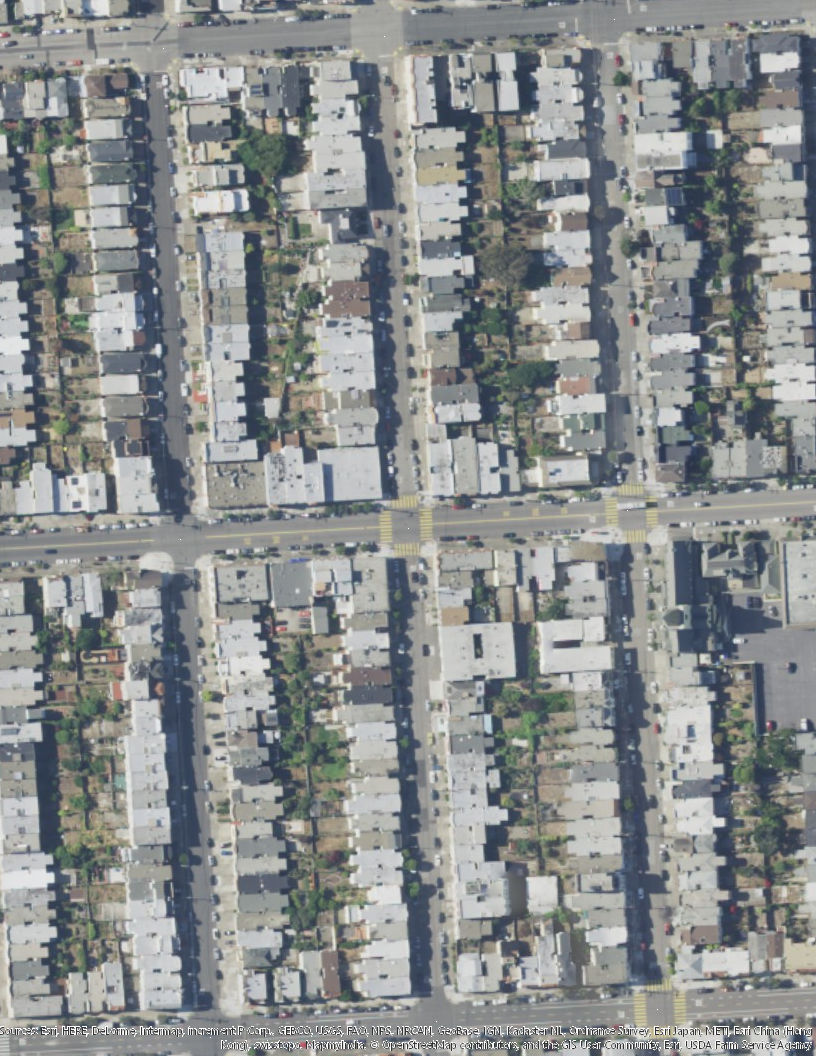zebracross: (377, 509, 395, 543), (640, 978, 678, 994), (631, 994, 650, 1025), (391, 494, 424, 511), (419, 509, 434, 542), (673, 990, 687, 1025), (645, 496, 658, 528), (605, 497, 619, 526), (618, 482, 645, 497), (393, 542, 421, 555), (625, 528, 647, 543)
